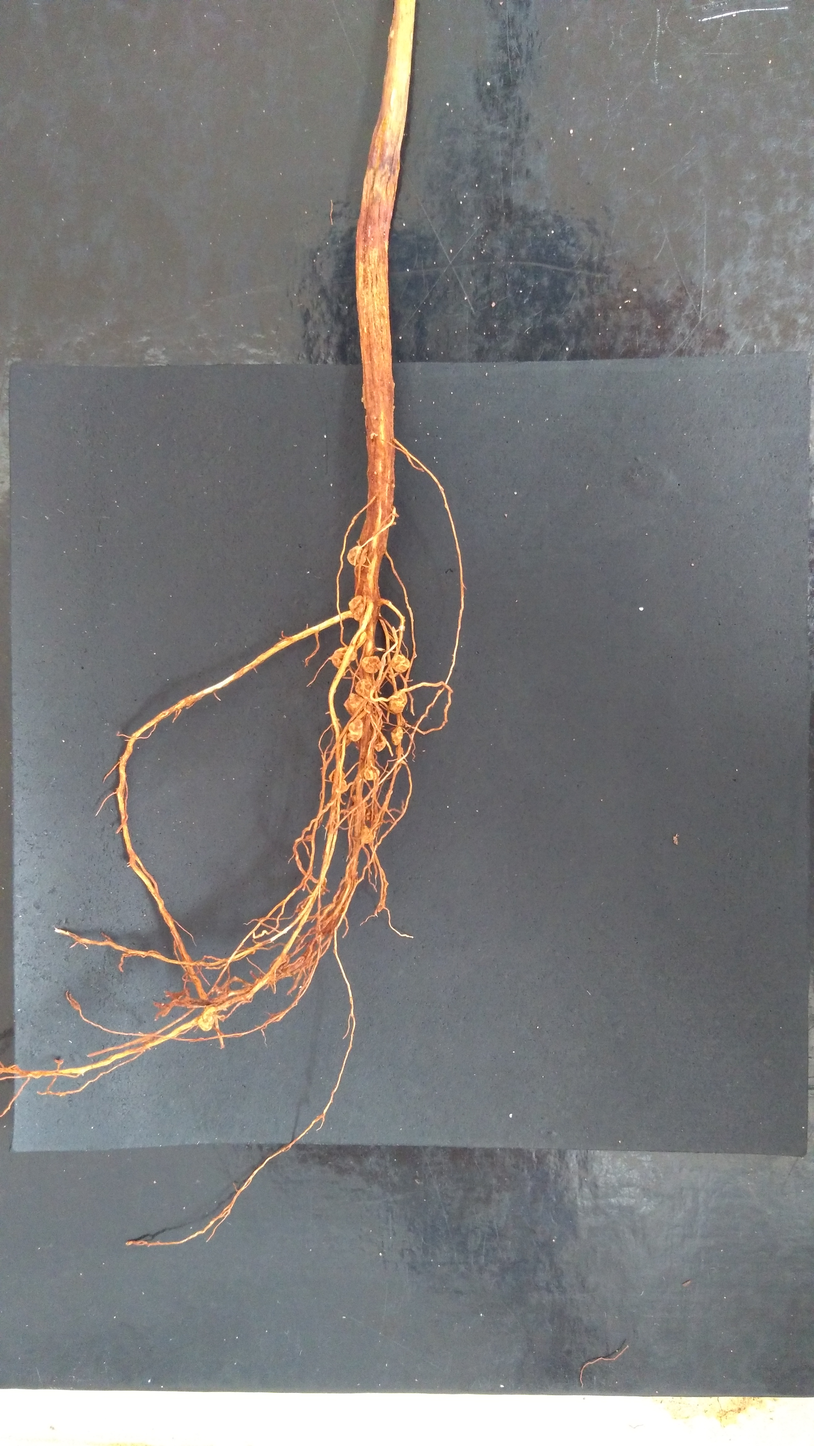nodule: (197, 1004, 219, 1032), (341, 691, 364, 716), (345, 544, 368, 568), (359, 655, 383, 678), (388, 688, 408, 715), (389, 653, 411, 673), (347, 717, 363, 744), (332, 645, 348, 671), (354, 678, 373, 699), (373, 731, 388, 755), (363, 764, 382, 782), (269, 953, 290, 969), (390, 725, 405, 746), (328, 766, 346, 783), (347, 594, 363, 613), (351, 794, 369, 809), (354, 632, 367, 652), (360, 825, 374, 843), (352, 603, 366, 621), (333, 780, 349, 795), (350, 650, 358, 662)
